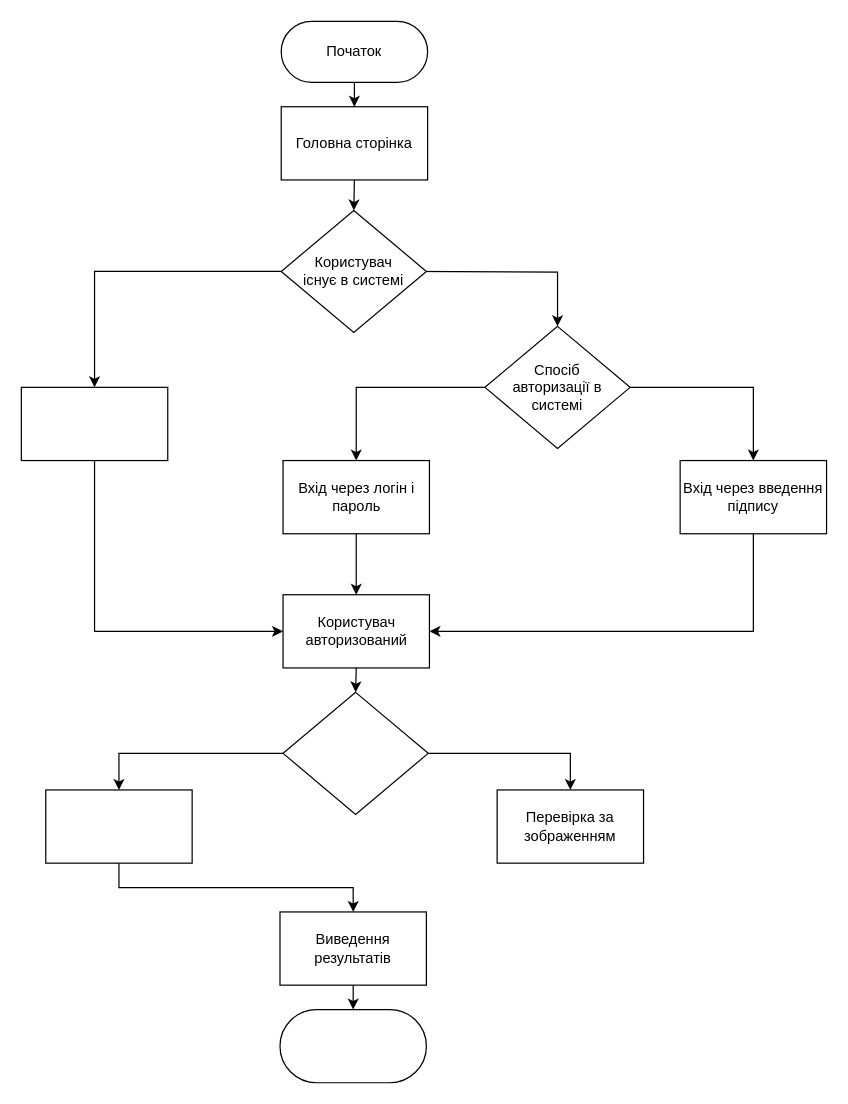
The diagram is 848 pixels wide and 1104 high, and some of its shapes have lost their labels. The centre of each missing label's shape, as x and y in pixels:
Кінець: the point at 352,1045
Перевірка підпису з іншими користувачами: the point at 355,752
Перевірка через інтерактивне введення підпису: the point at 118,826
Створення користувача через логін і пароль: the point at 94,423
